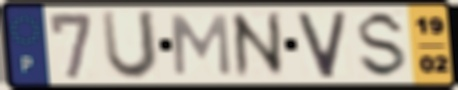7: (47, 10, 97, 81)
M: (169, 12, 234, 78)
N: (227, 9, 289, 81)
S: (355, 9, 410, 81)
U: (98, 9, 160, 83)
V: (294, 9, 350, 81)
